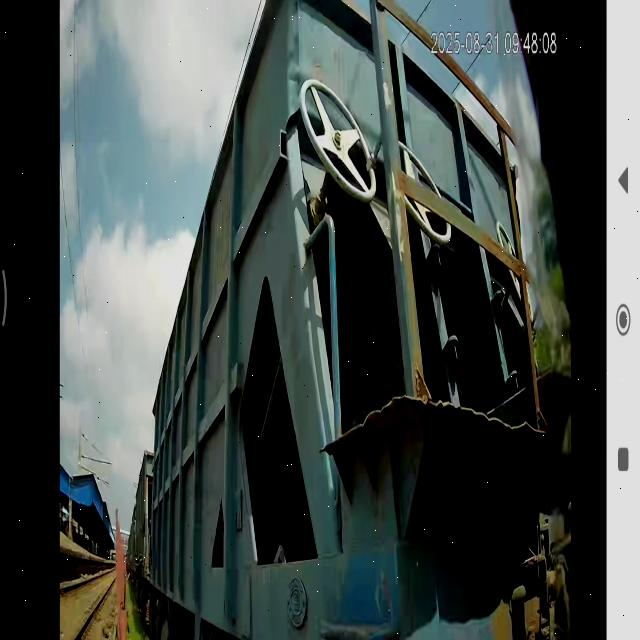coach: (154, 4, 296, 640)
